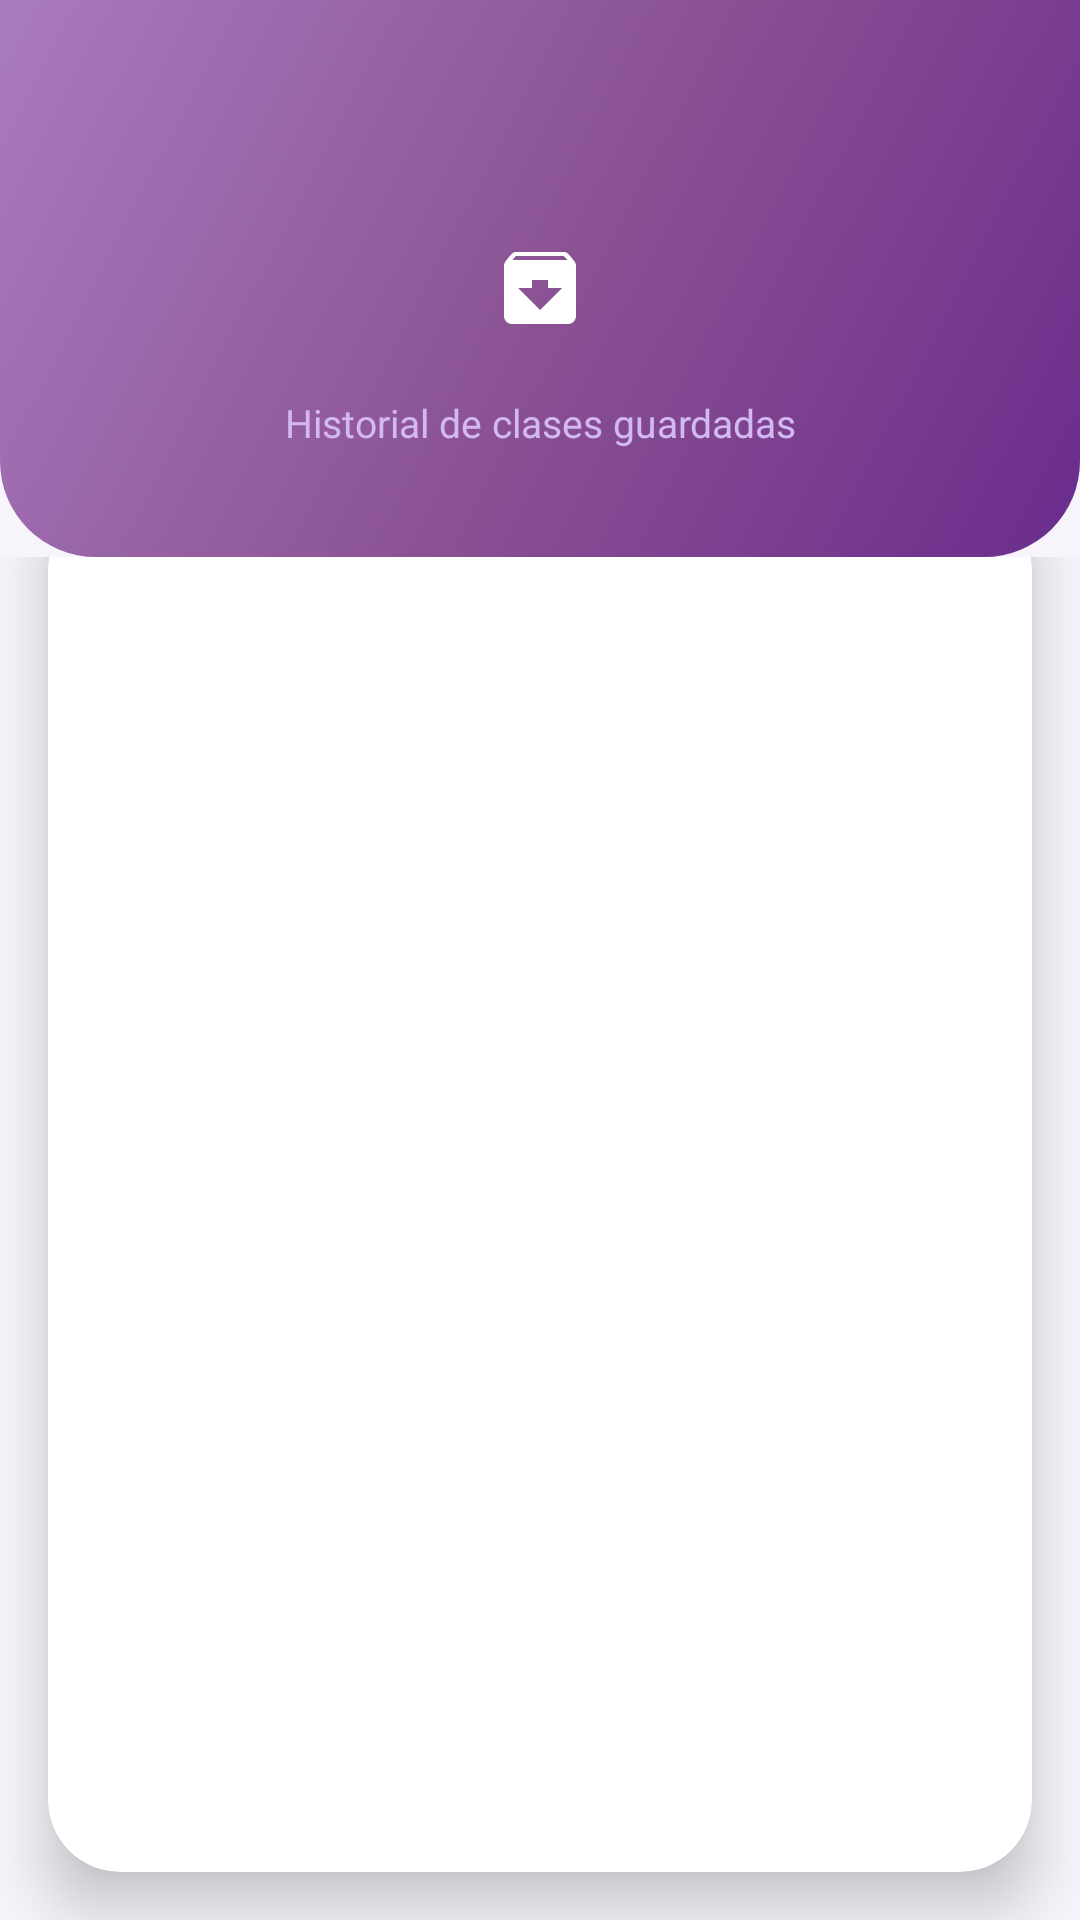

Icon click points for this 1080 × 1920 phone screenshot, format point (x, y):
archive: point (540, 288)
